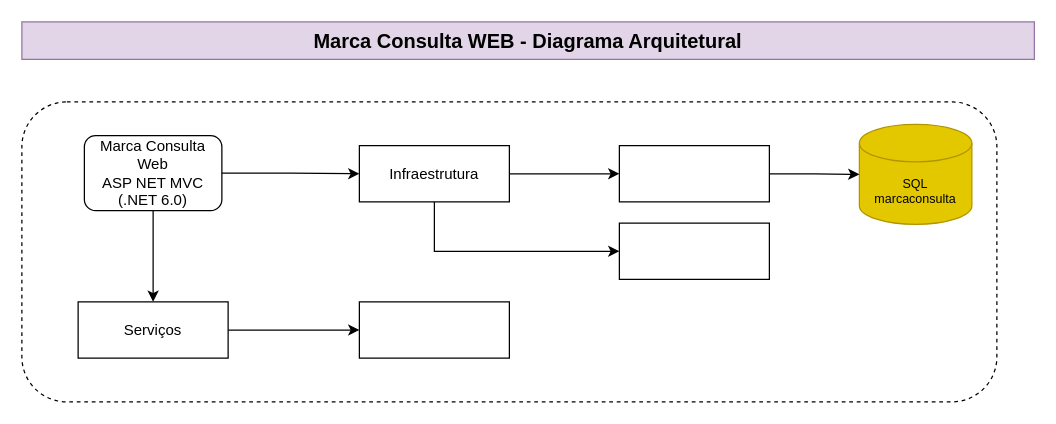
Some shapes in this 1056 by 424 pixel diagram are drawn without their labels. Each missing label, with the centre of its shape:
"COMMON" goes at pixel 693 250.
"DAL" goes at pixel 693 173.
"Domínio" goes at pixel 433 329.
